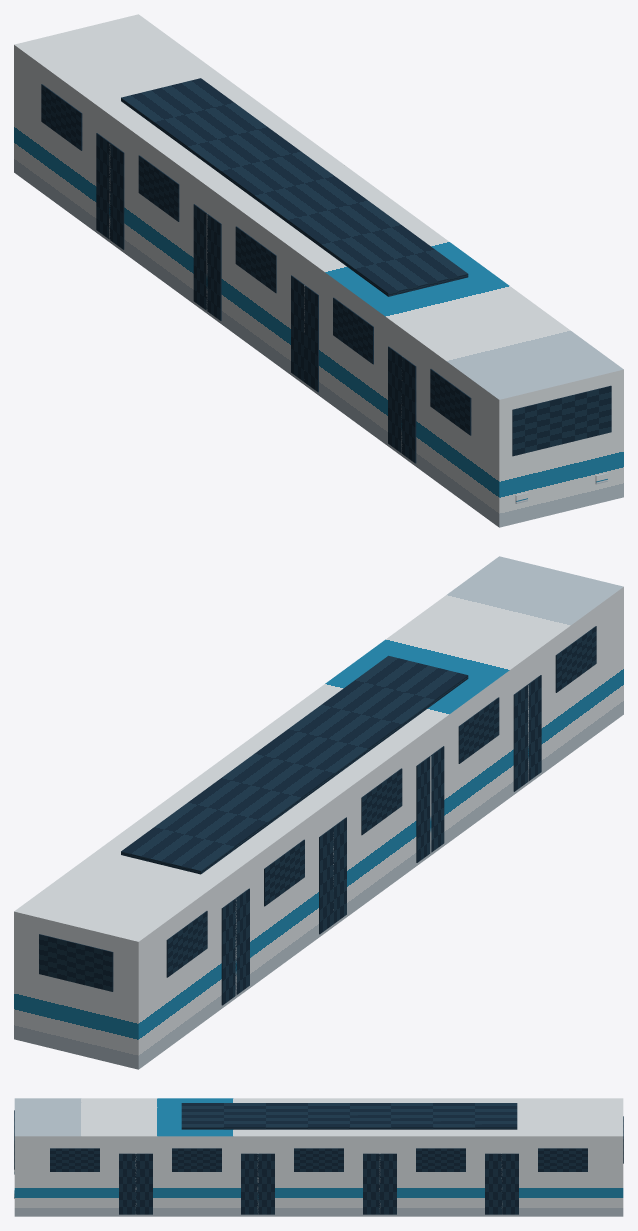
File: studio-train.glb
The picture shows the model from 3 angles, top to bottom: view 1: azimuth 30°, elevation 25°; view 2: azimuth 150°, elevation 25°; view 3: azimuth 270°, elevation 25°; orthographic projection. The views are drawn at different scales.
Parts seen in each view (by area): view 1: Body_Shell, Roof_Equipment, Front_Windscreen, Door_Right_1, Door_Right_2, Door_Right_4, Door_Right_3, Window_Right_1, Window_Right_2, Window_Right_3, Window_Right_5, Window_Right_4; view 2: Body_Shell, Roof_Equipment, Rear_Windscreen, Door_Right_4, Door_Right_1, Door_Right_3, Door_Right_2, Window_Right_4, Window_Right_5, Window_Right_1, Window_Right_3, Window_Right_2; view 3: Body_Shell, Roof_Equipment, Door_Left_1, Door_Left_2, Door_Left_3, Door_Left_4, Window_Left_1, Window_Left_2, Window_Left_3, Window_Left_4, Window_Left_5.
Part boxes in pixels (box(x1,y1,x2,y2)): Body_Shell: box(14, 14, 623, 527); Roof_Equipment: box(121, 78, 468, 296); Front_Windscreen: box(512, 385, 611, 456); Door_Right_1: box(96, 133, 124, 249); Door_Right_2: box(193, 204, 221, 320); Door_Right_4: box(388, 346, 416, 463); Door_Right_3: box(291, 275, 318, 392); Window_Right_1: box(41, 84, 82, 150); Window_Right_2: box(138, 155, 179, 221); Window_Right_3: box(235, 226, 276, 293); Window_Right_5: box(430, 369, 471, 435); Window_Right_4: box(333, 297, 373, 364); Body_Shell: box(14, 556, 623, 1069); Roof_Equipment: box(121, 655, 468, 874); Rear_Windscreen: box(39, 934, 113, 991); Door_Right_4: box(513, 675, 541, 791); Door_Right_1: box(221, 888, 249, 1005); Door_Right_3: box(416, 746, 444, 862); Door_Right_2: box(319, 817, 346, 934); Window_Right_4: box(458, 697, 499, 763); Window_Right_5: box(555, 626, 596, 692); Window_Right_1: box(166, 911, 207, 977); Window_Right_3: box(361, 768, 402, 835); Window_Right_2: box(264, 839, 304, 906); Body_Shell: box(14, 1098, 623, 1216); Roof_Equipment: box(181, 1103, 517, 1129); Door_Left_1: box(485, 1153, 518, 1214); Door_Left_2: box(363, 1153, 396, 1214); Door_Left_3: box(241, 1153, 274, 1214); Door_Left_4: box(119, 1153, 152, 1214); Window_Left_1: box(538, 1148, 587, 1171); Window_Left_2: box(416, 1148, 465, 1171); Window_Left_3: box(294, 1148, 343, 1171); Window_Left_4: box(172, 1148, 221, 1171); Window_Left_5: box(50, 1148, 99, 1171).
Size of the model in its own units: 3 by 2.98 by 20.
Materials: 2 (2 with a texture image).
